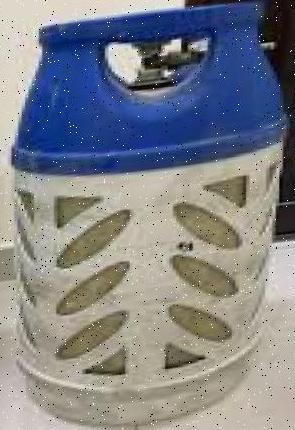cylinder: (1, 1, 295, 430)
